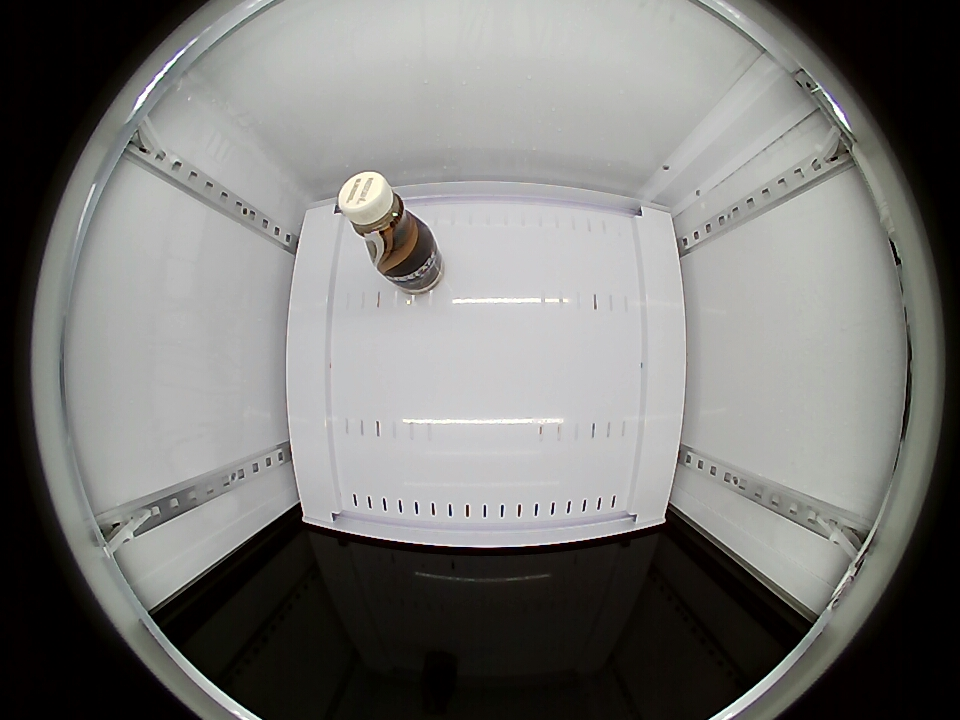kafei: (337, 171, 431, 273)
